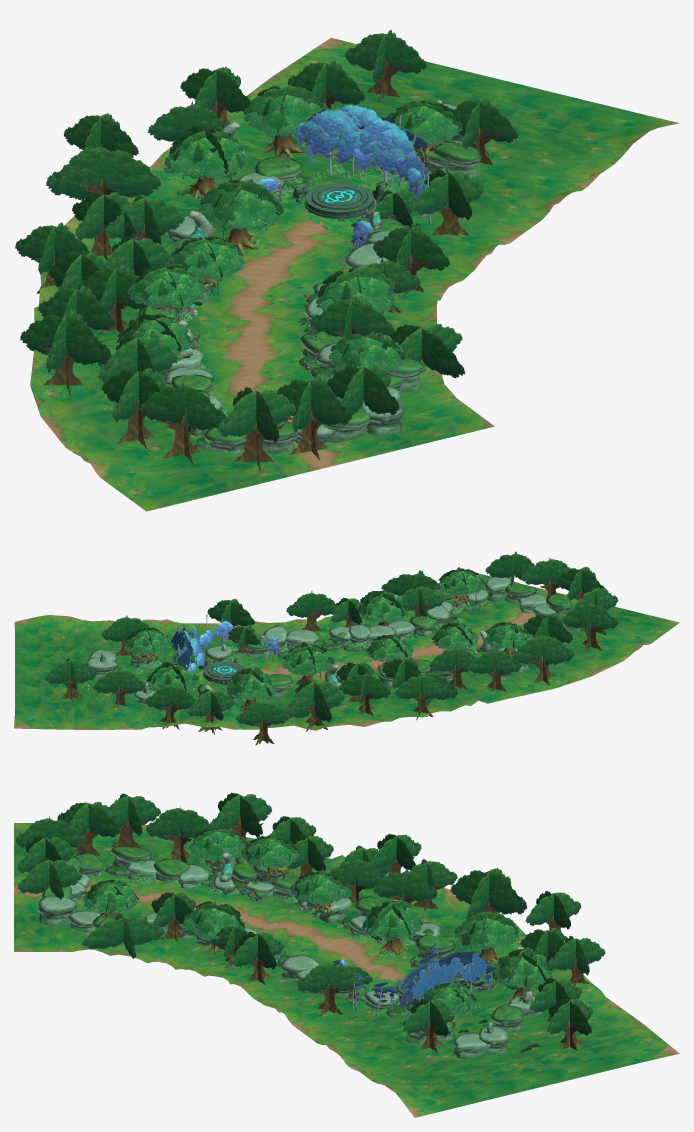
Rendered from dungeons01_mysl_02.FBX.
The picture shows the model from 3 angles, top to bottom: view 1: azimuth 30°, elevation 25°; view 2: azimuth 150°, elevation 25°; view 3: azimuth 270°, elevation 25°; orthographic projection. The views are drawn at different scales.
Parts seen in each view (by area): view 1: TreeLeaf1_G_ST1, Floor1_ST1, Wood2_BR_Silver1, Rock2_GY_ST2, TreeLeaf_B_ST1, Rock2_GY_ST1, BossGround_ST1, Wood1_BR_ST1, Plane001, Rock1_BG_ST1, Stone1_BGY_ST1; view 2: TreeLeaf1_G_ST1, Floor1_ST1, Rock2_GY_ST1, Wood2_BR_Silver1, Rock2_GY_ST2, TreeLeaf_B_ST1, BossGround_ST1, Rock1_BG_ST1, Wood1_BR_ST1, Stone1_BGY_ST1; view 3: TreeLeaf1_G_ST1, Floor1_ST1, Rock2_GY_ST1, Rock2_GY_ST2, Wood2_BR_Silver1, TreeLeaf_B_ST1, Wood1_BR_ST1, Rock1_BG_ST1, Stone1_BGY_ST1.
Part boxes in pixels (x1=…): TreeLeaf1_G_ST1: x1=15, y1=30, x2=518, y2=442; Floor1_ST1: x1=30, y1=37, x2=678, y2=511; Wood2_BR_Silver1: x1=35, y1=57, x2=501, y2=472; Rock2_GY_ST2: x1=98, y1=127, x2=480, y2=453; TreeLeaf_B_ST1: x1=257, y1=105, x2=427, y2=247; Rock2_GY_ST1: x1=164, y1=102, x2=487, y2=444; BossGround_ST1: x1=276, y1=183, x2=389, y2=221; Wood1_BR_ST1: x1=151, y1=133, x2=439, y2=373; Plane001: x1=305, y1=167, x2=409, y2=234; Rock1_BG_ST1: x1=160, y1=139, x2=450, y2=450; Stone1_BGY_ST1: x1=176, y1=100, x2=442, y2=358; TreeLeaf1_G_ST1: x1=44, y1=551, x2=618, y2=732; Floor1_ST1: x1=14, y1=573, x2=679, y2=730; Rock2_GY_ST1: x1=85, y1=576, x2=556, y2=705; Wood2_BR_Silver1: x1=61, y1=577, x2=607, y2=745; Rock2_GY_ST2: x1=133, y1=582, x2=572, y2=699; TreeLeaf_B_ST1: x1=171, y1=621, x2=281, y2=673; BossGround_ST1: x1=197, y1=659, x2=245, y2=684; Rock1_BG_ST1: x1=114, y1=603, x2=582, y2=708; Wood1_BR_ST1: x1=138, y1=595, x2=517, y2=711; Stone1_BGY_ST1: x1=100, y1=630, x2=492, y2=693; TreeLeaf1_G_ST1: x1=15, y1=792, x2=605, y2=1053; Floor1_ST1: x1=14, y1=823, x2=679, y2=1117; Rock2_GY_ST1: x1=38, y1=859, x2=542, y2=1058; Rock2_GY_ST2: x1=42, y1=846, x2=523, y2=1043; Wood2_BR_Silver1: x1=67, y1=816, x2=593, y2=1052; TreeLeaf_B_ST1: x1=332, y1=944, x2=495, y2=1009; Wood1_BR_ST1: x1=100, y1=859, x2=536, y2=1027; Rock1_BG_ST1: x1=102, y1=862, x2=498, y2=1033; Stone1_BGY_ST1: x1=219, y1=852, x2=532, y2=1033.
Bounding box in the file's own units: 10942 × 1314 × 10439.
